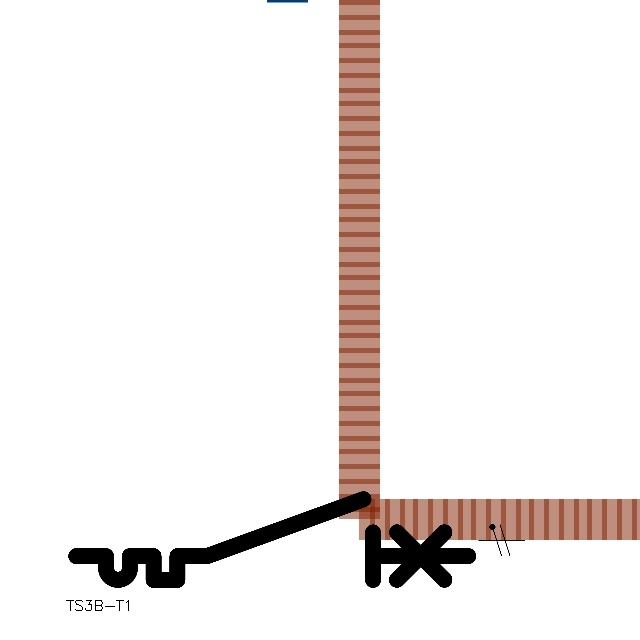interruptor_termomagnetico: (66, 489, 478, 590)
